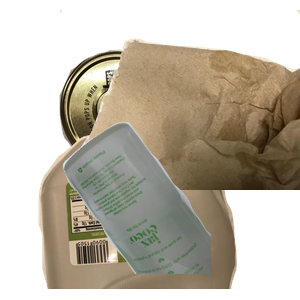glass: (60, 120, 300, 300)
metal: (57, 47, 227, 211)
plastic: (36, 120, 265, 300)
trash: (60, 10, 300, 190)
